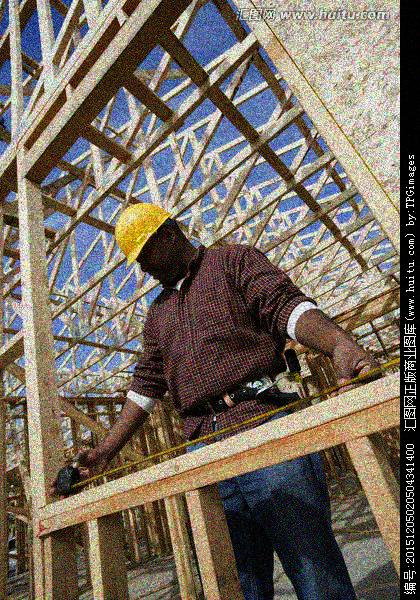helmet: (112, 204, 193, 285)
